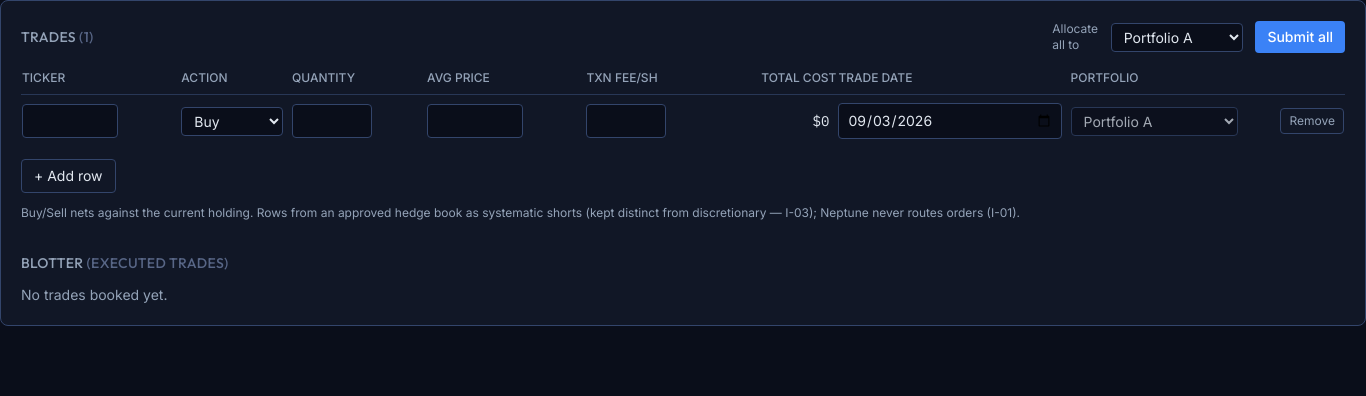
Scenario: Trade grid › flags a failed row and keeps it; clears the successful one
Click the button "+ Add row": coordinates (68, 176) x1=21 y1=159 x2=116 y2=193
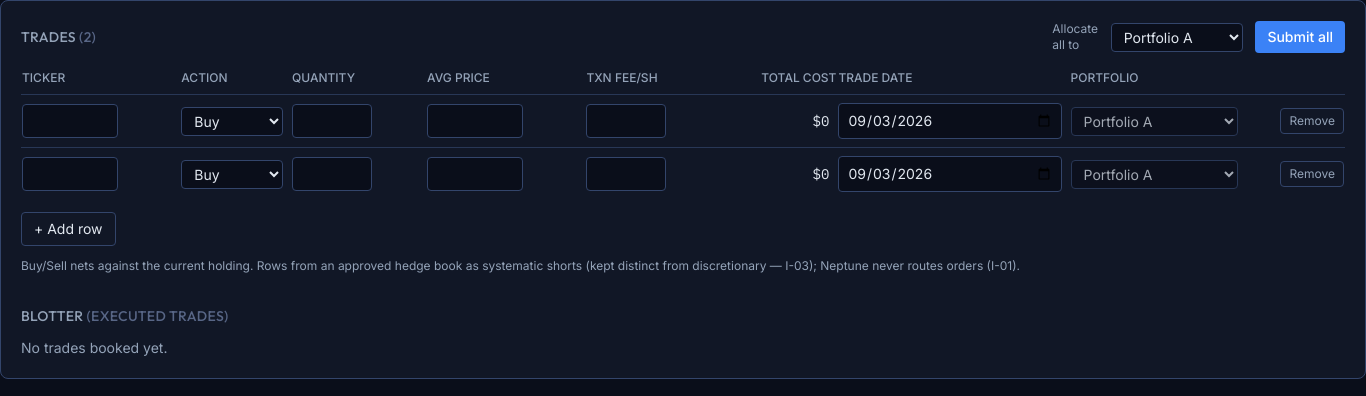
In the 1st field named "Ticker": coordinates (70, 121) x1=22 y1=104 x2=118 y2=138, type "ok"
In the 1st number field named "Quantity": coordinates (332, 121) x1=292 y1=104 x2=372 y2=138, type "1"
In the 1st number field named "Average Price": coordinates (475, 121) x1=427 y1=104 x2=523 y2=138, type "10"
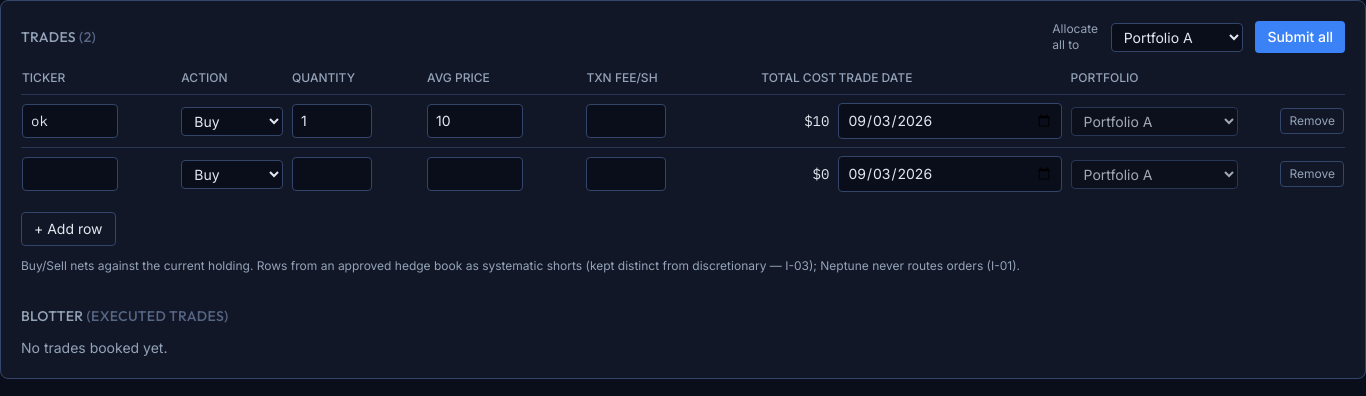
In the field named "Ticker" in the row of "$0": coordinates (70, 174) x1=22 y1=157 x2=118 y2=191, type "bad"
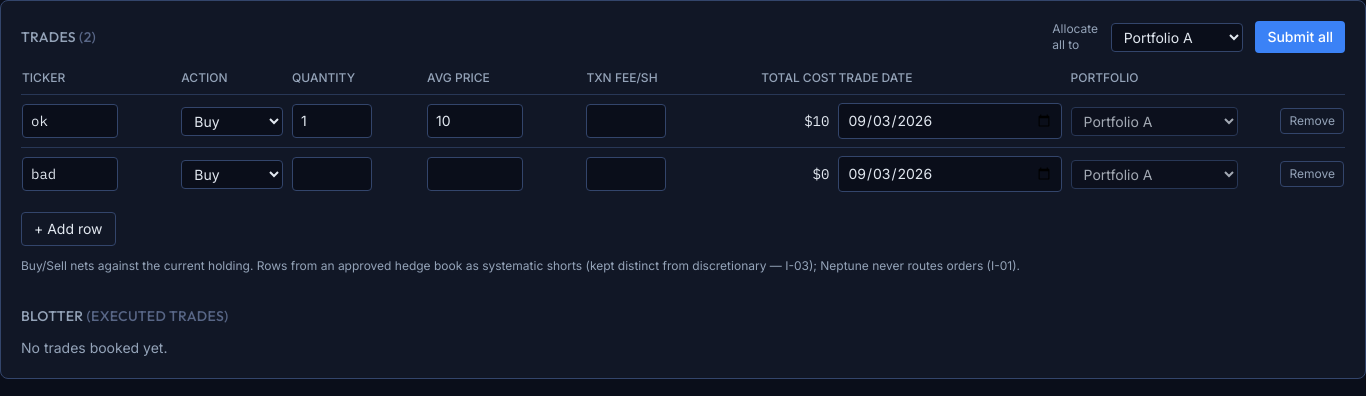
In the number field named "Quantity" in the row of "$0": coordinates (332, 174) x1=292 y1=157 x2=372 y2=191, type "1"
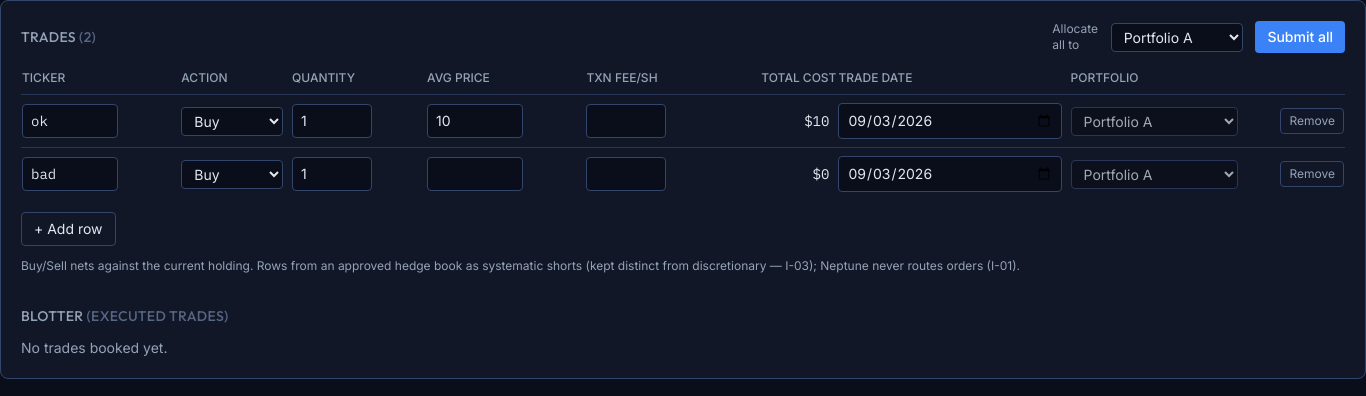
In the number field named "Average Price" in the row of "$0": coordinates (475, 174) x1=427 y1=157 x2=523 y2=191, type "10"
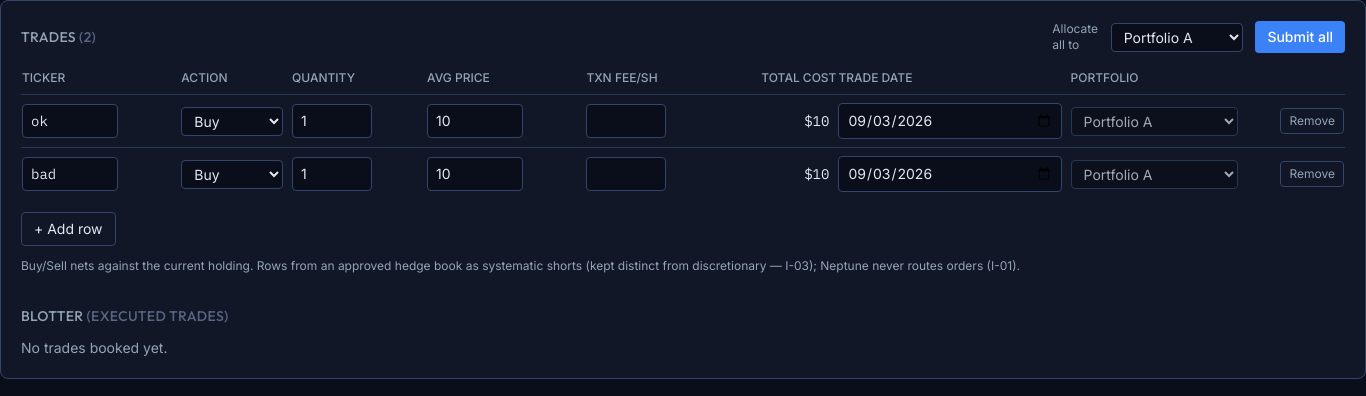
Click the button "Submit all": coordinates (1300, 37) x1=1255 y1=21 x2=1345 y2=53
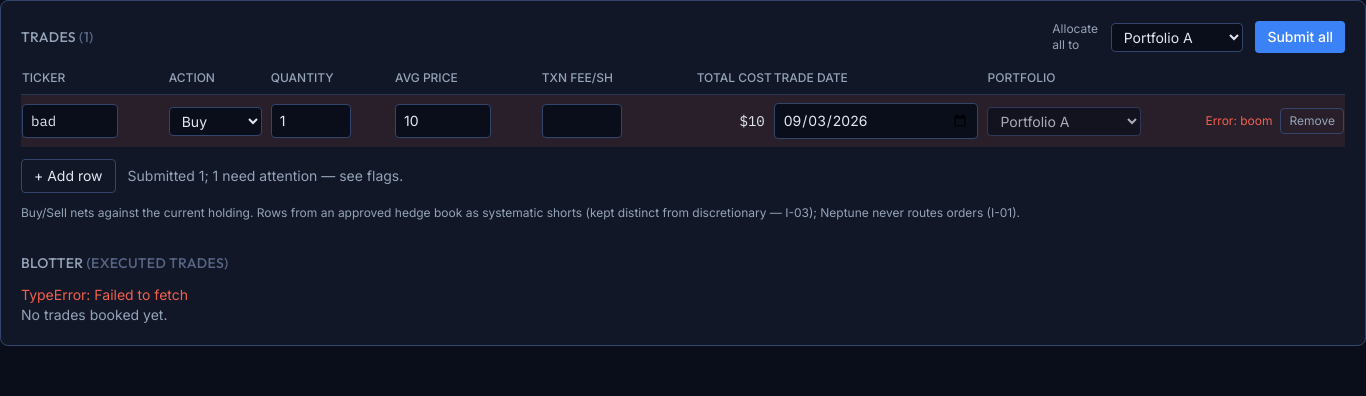
Expected: the number of fields named "Ticker" is 1, x1=22 y1=104 x2=118 y2=138
